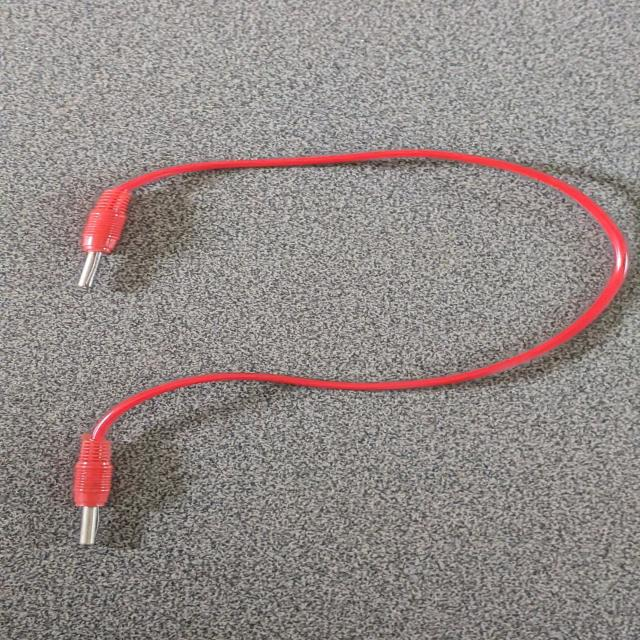BNC Cable: (7, 140, 640, 552)
